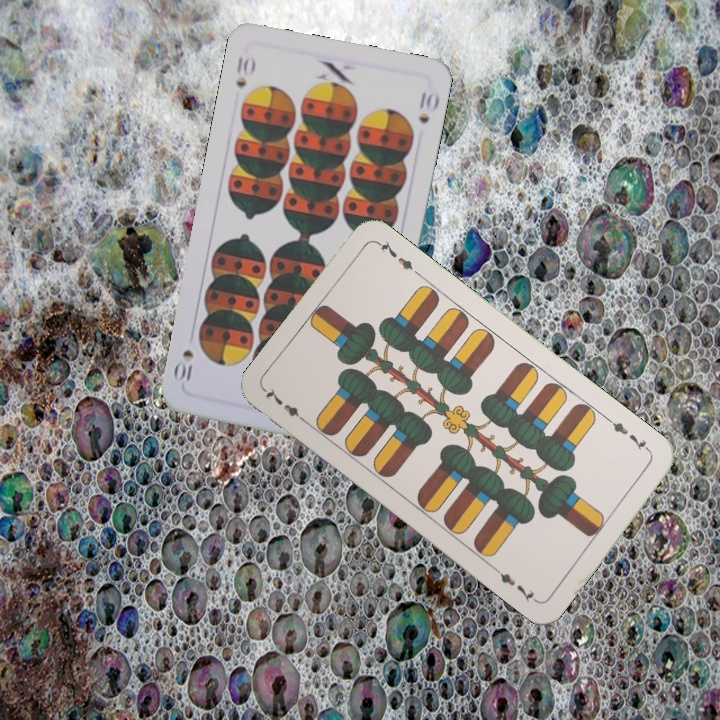E7: (260, 383, 311, 427), (604, 414, 654, 456)
S10: (231, 52, 258, 91)
